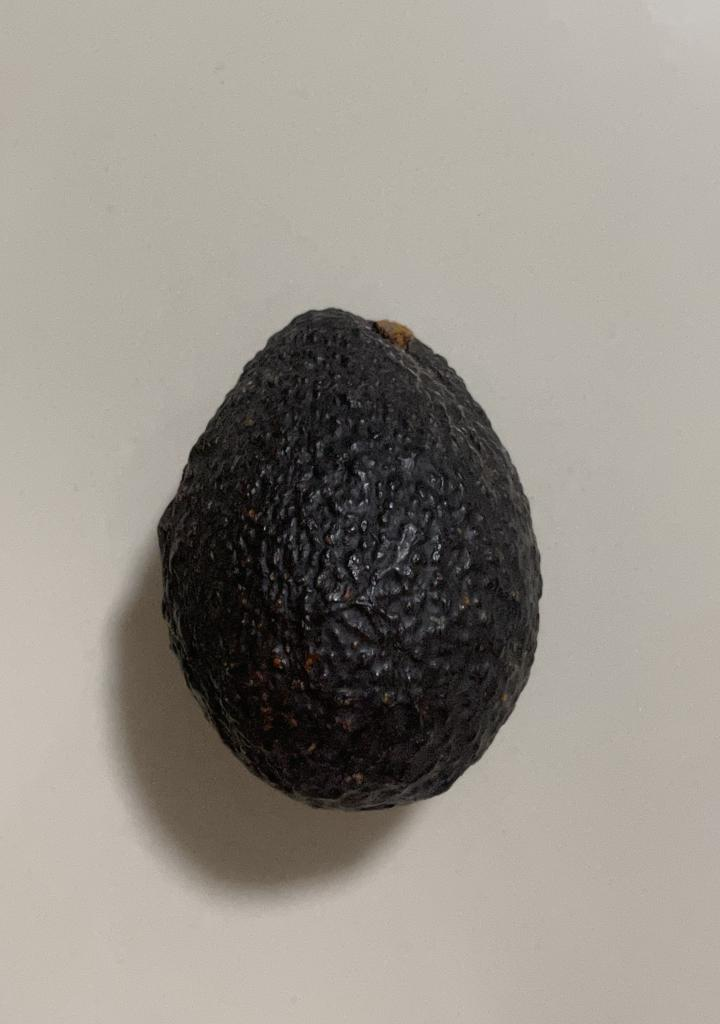Level3: (148, 287, 558, 822)
